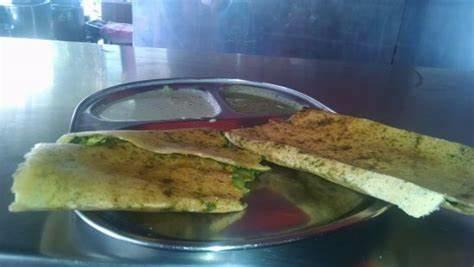Dosa: (224, 108, 474, 218), (8, 128, 271, 213)
